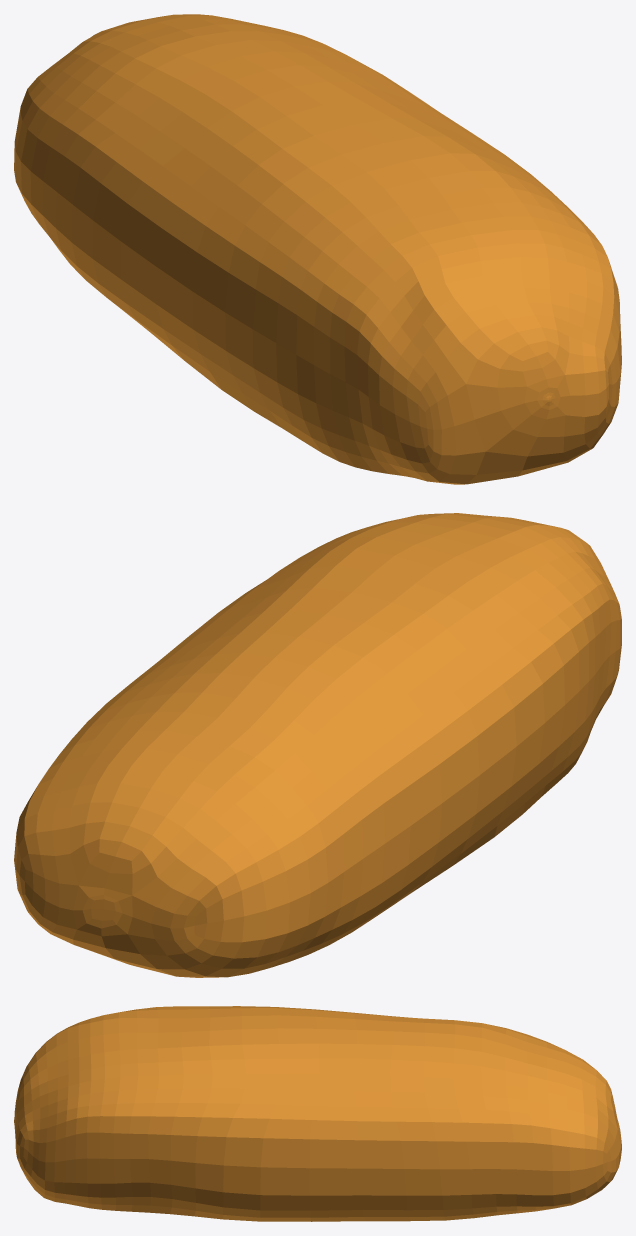
File: bread.fbx
The picture shows the model from 3 angles, top to bottom: view 1: azimuth 30°, elevation 25°; view 2: azimuth 150°, elevation 25°; view 3: azimuth 270°, elevation 25°; orthographic projection. The views are drawn at different scales.
Parts seen in each view (by area): view 1: Bread; view 2: Bread; view 3: Bread.
Boxes of the visible parts, <box> form: Bread: <box>14,14,621,484</box>; Bread: <box>14,513,621,977</box>; Bread: <box>14,1006,621,1221</box>.
Bounding box in the file's own units: 7.26 × 5.17 × 17.13.
